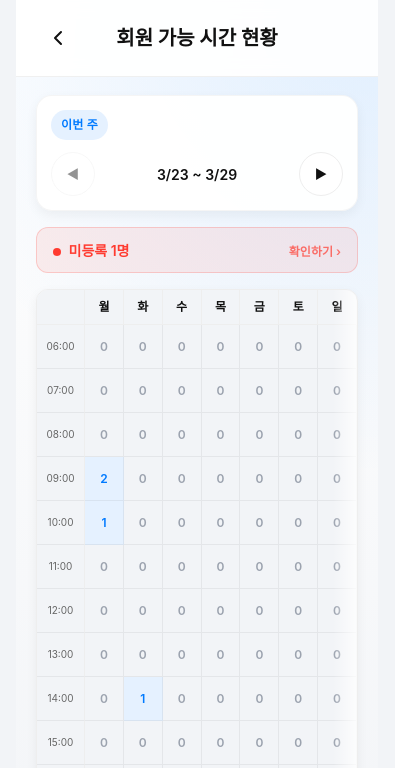
Test: AvailabilityStatusView 히트맵 › 미등록 배너 클릭 시 미등록 바텀시트 오픈
Click the button with class "availability-status__pending-banner": (97, 250) [36, 227, 358, 273]
(page scrolled)
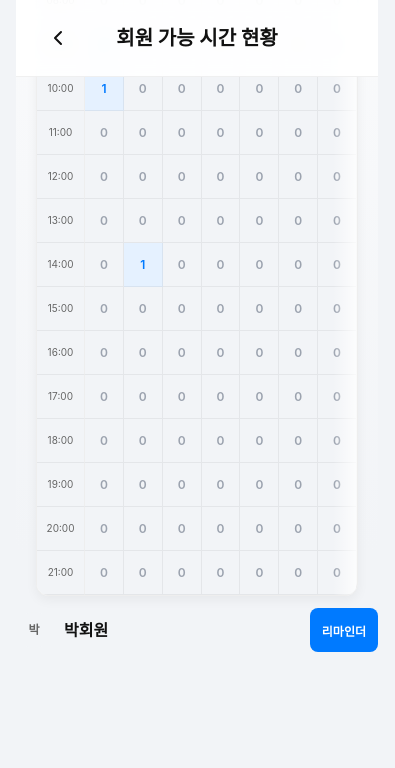
expect the element with class "bottom-sheet-stub" is shown: met, box [16, 596, 378, 664]
